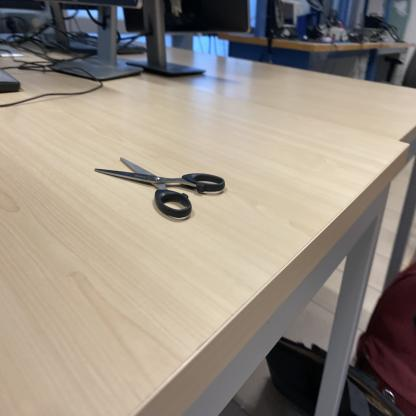scissors: (94, 155, 228, 223)
